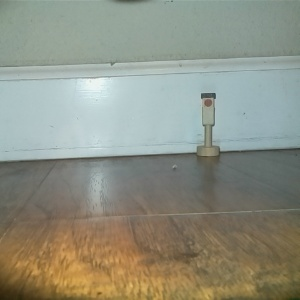traffic light red: (193, 91, 222, 158)
